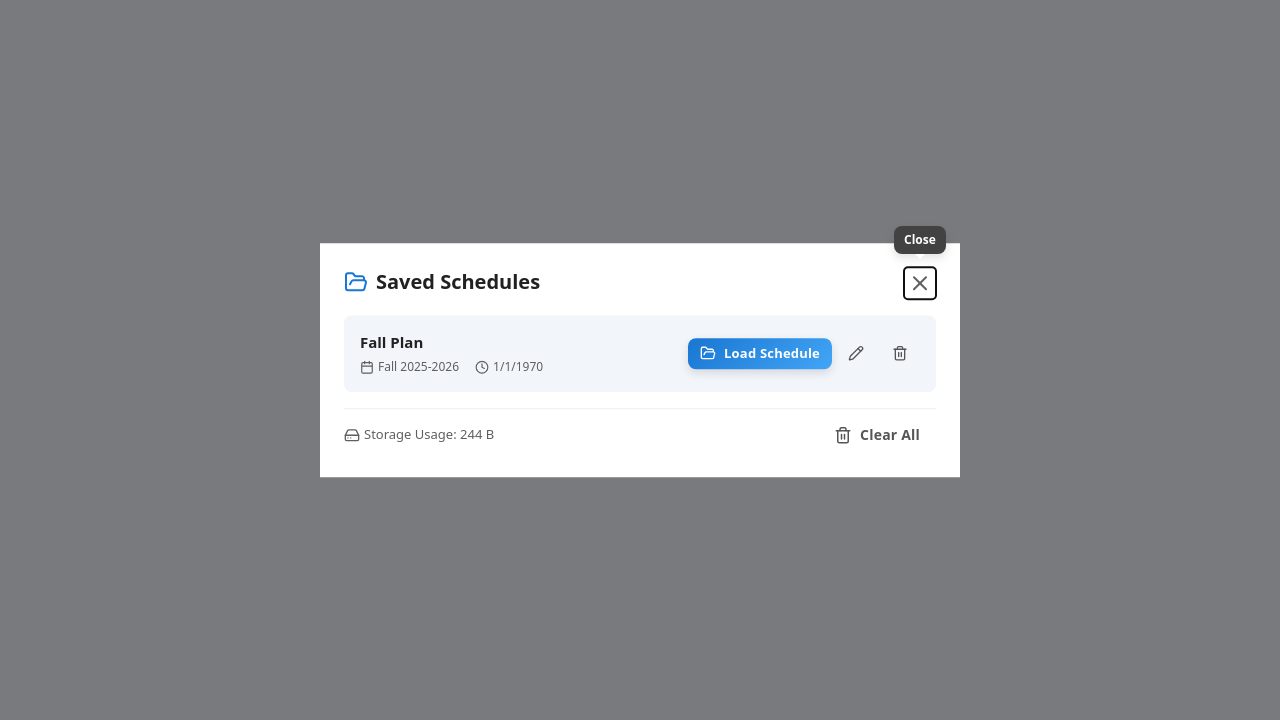
SavedSchedulesDialog › shows an error if deleting a saved schedule cannot be persisted
The image size is (1280, 720).
Click the button named "Delete Schedule Fall Plan" at coordinates (900, 354), box x1=880 y1=340 x2=920 y2=368
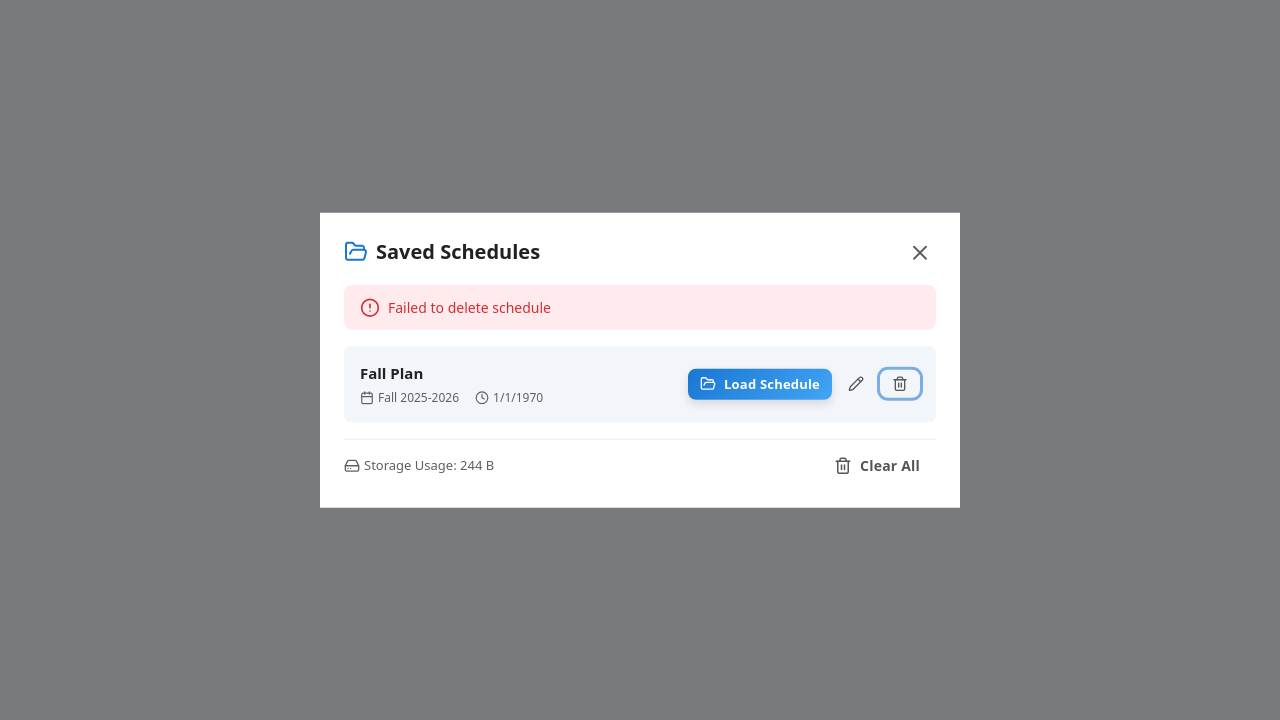
Check: the text "Failed to delete schedule" is shown, box x1=388 y1=297 x2=551 y2=318
